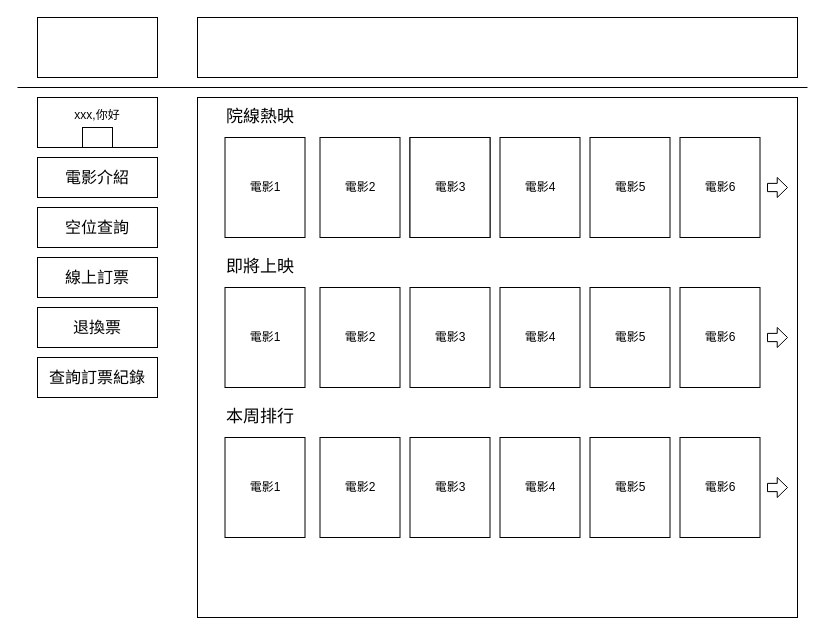
This 826x635 diagram has some shape labels left out. Each missing label, with the centre of its shape:
"影城名稱" belongs at point (497, 47).
"登出" belongs at point (97, 137).
"電影院 訂票系統" belongs at point (97, 47).
